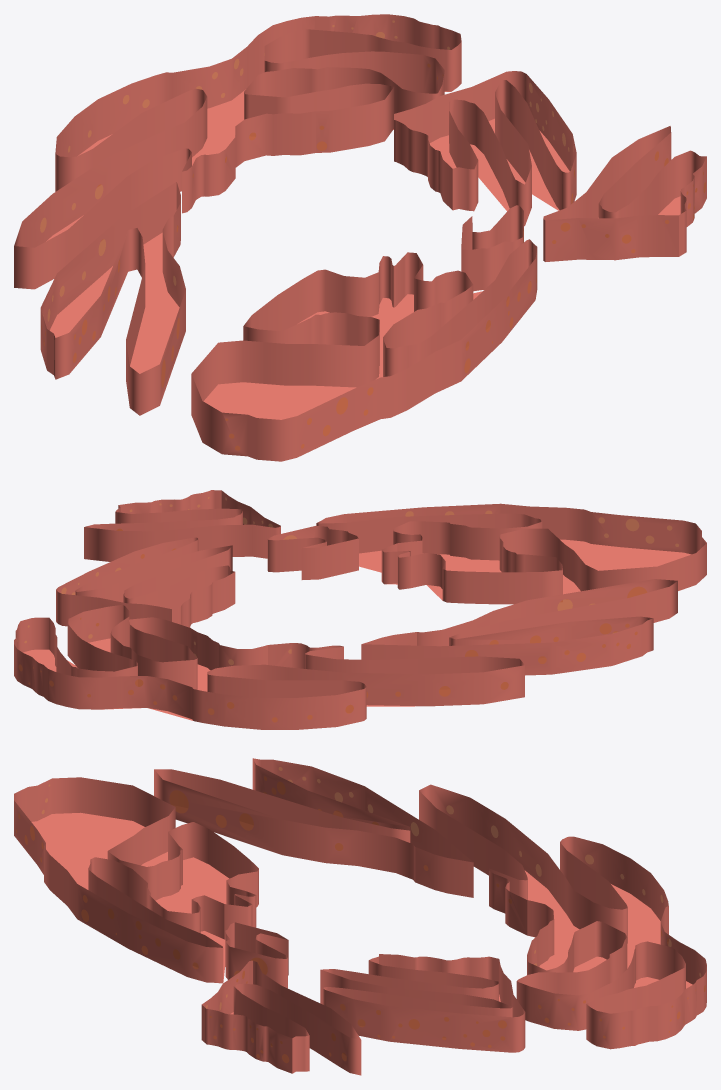
The model's file is Сітка і рибосоми.obj.
The picture shows the model from 3 angles, top to bottom: view 1: azimuth 30°, elevation 25°; view 2: azimuth 150°, elevation 25°; view 3: azimuth 270°, elevation 25°; orthographic projection. The views are drawn at different scales.
Parts seen in each view (by area): view 1: Mesh4 Model, Mesh1 Model, Mesh3 Model, Mesh5 Model, Mesh6 Model, Mesh2 Model; view 2: Mesh4 Model, Mesh1 Model, Mesh3 Model, Mesh5 Model, Mesh6 Model, Mesh2 Model; view 3: Mesh4 Model, Mesh1 Model, Mesh3 Model, Mesh5 Model, Mesh6 Model, Mesh2 Model.
Part boxes in pixels (left/top/right/bottom): Mesh4 Model: left=14, top=14, right=461, bottom=289; Mesh1 Model: left=191, top=239, right=537, bottom=461; Mesh3 Model: left=40, top=182, right=185, bottom=415; Mesh5 Model: left=394, top=71, right=576, bottom=226; Mesh6 Model: left=543, top=126, right=706, bottom=261; Mesh2 Model: left=461, top=205, right=523, bottom=291; Mesh4 Model: left=14, top=604, right=524, bottom=729; Mesh1 Model: left=316, top=503, right=706, bottom=604; Mesh3 Model: left=361, top=579, right=677, bottom=675; Mesh5 Model: left=56, top=537, right=235, bottom=627; Mesh6 Model: left=84, top=490, right=280, bottom=561; Mesh2 Model: left=267, top=525, right=358, bottom=579; Mesh4 Model: left=419, top=784, right=706, bottom=1049; Mesh1 Model: left=14, top=777, right=258, bottom=983; Mesh3 Model: left=154, top=758, right=473, bottom=897; Mesh5 Model: left=320, top=954, right=525, bottom=1052; Mesh6 Model: left=201, top=960, right=361, bottom=1075; Mesh2 Model: left=225, top=922, right=288, bottom=988.
Size of the model in its own units: 266 by 15.63 by 276.
